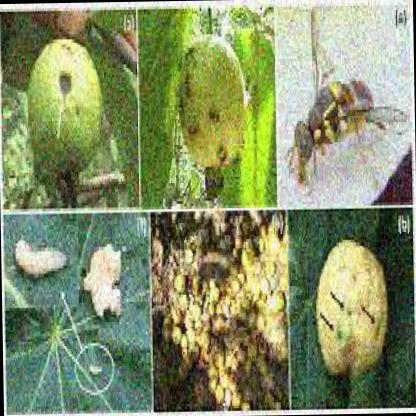fruit fly: (292, 12, 412, 185)
